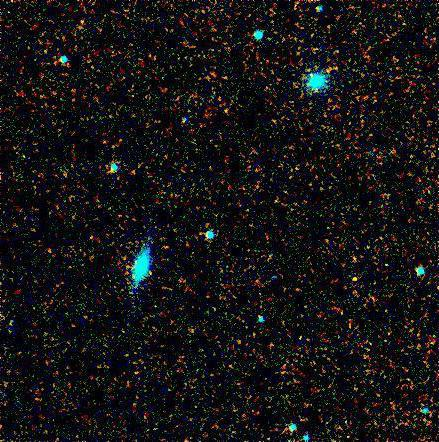star: (347, 265, 377, 295)
